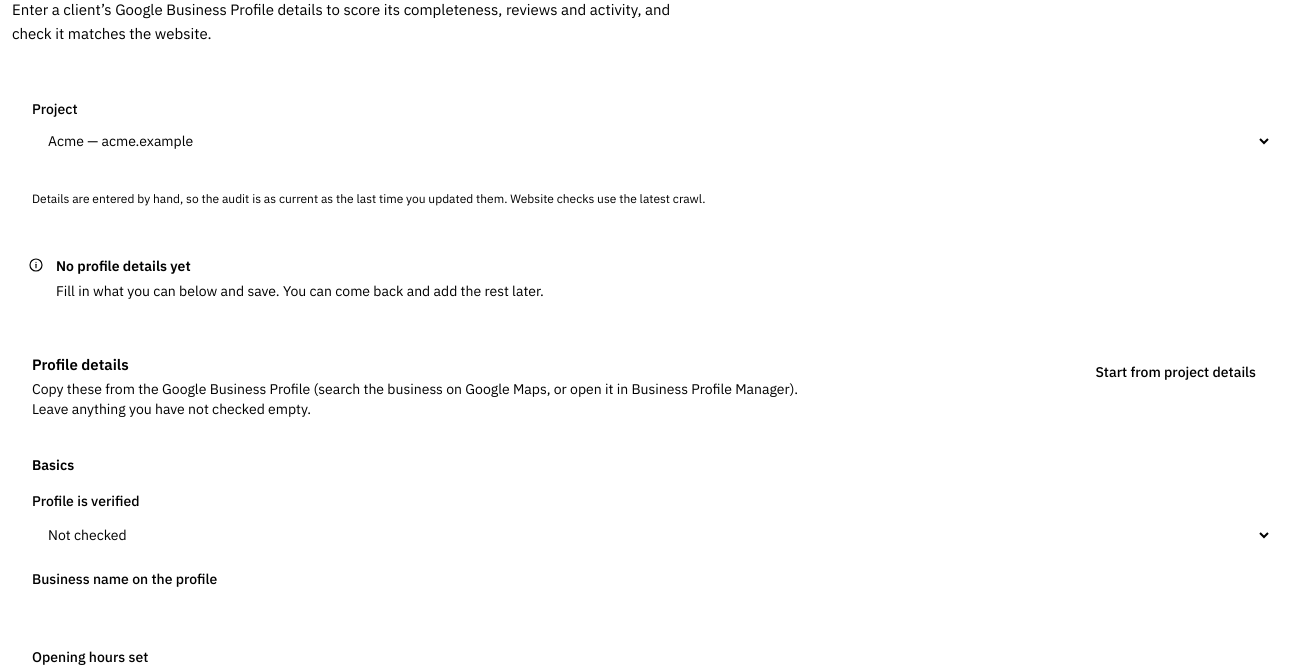
Test case: GbpAuditPage › shows an empty form with a shortcut to start from the project details
Expected: the text "No profile details yet" is shown, [56,257,191,275]
Click the button "Start from project details" at (1176, 372), box [1080,354,1272,390]
(page scrolled)
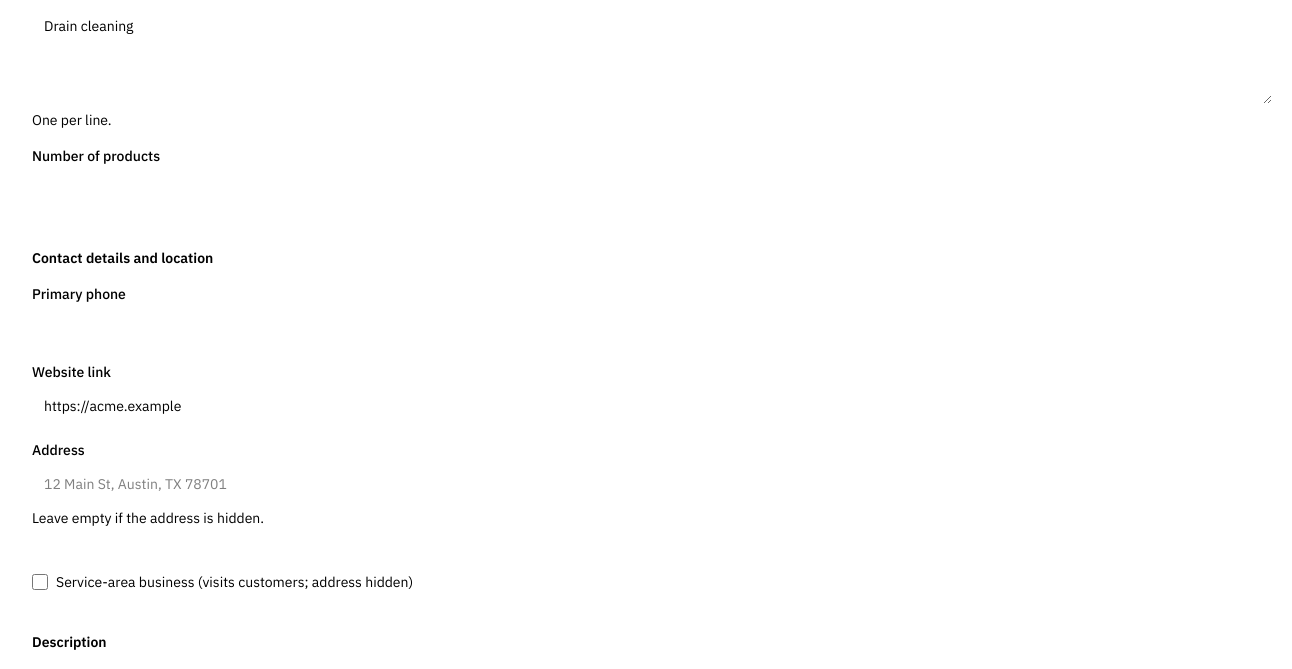
Now the field labelled "Website link" holds "https://acme.example", box [32,388,1272,424]
